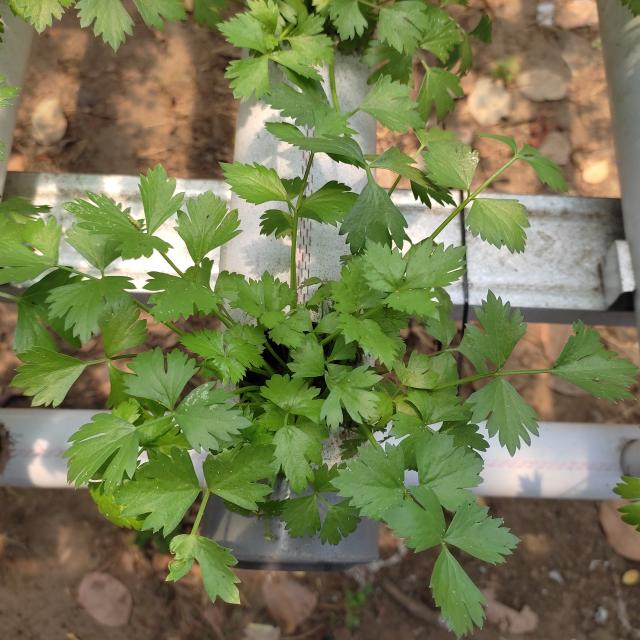Wet Waste: (25, 113, 580, 573)
